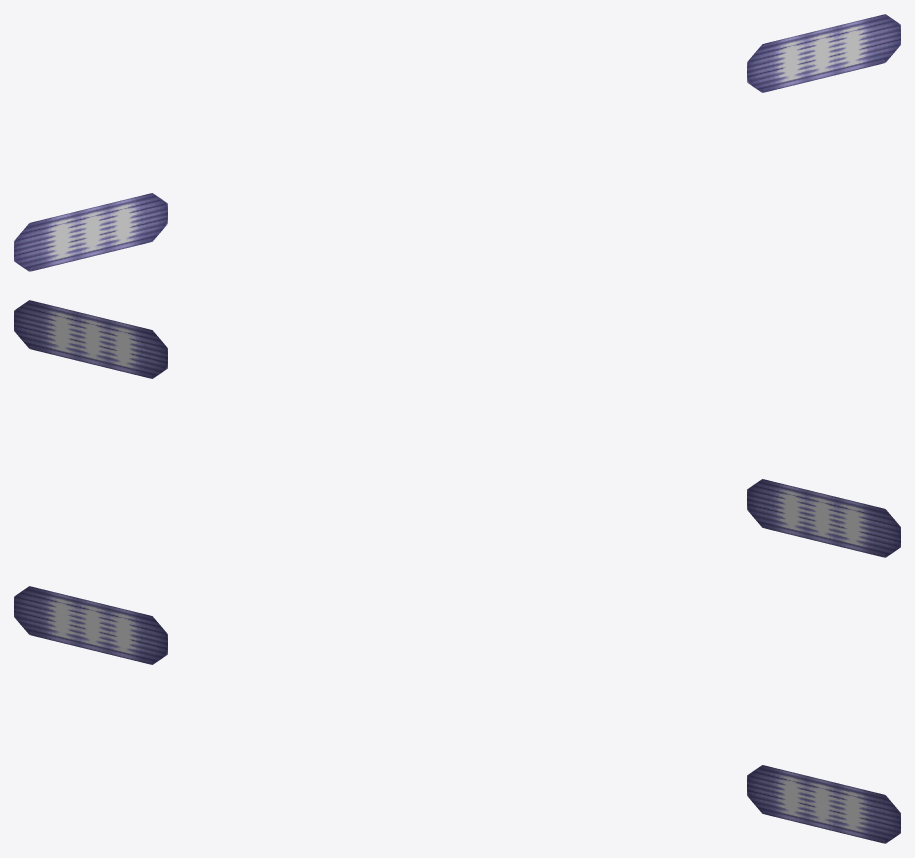
The model's file is yt1300_booster_s01_on_l1.fbx.
3 views of the same model, one above another, from view 1: azimuth 30°, elevation 25°; view 2: azimuth 150°, elevation 25°; view 3: azimuth 330°, elevation 25° (orthographic).
Visible parts, largest first — view 1: mesh_node; view 2: mesh_node; view 3: mesh_node.
Boxes of the visible parts, x1=… form: mesh_node: x1=14, y1=14, x2=900, y2=271; mesh_node: x1=14, y1=300, x2=900, y2=557; mesh_node: x1=14, y1=586, x2=900, y2=843.
Bounding box in the file's own units: 10.05 × 0.5301 × 0.
Materials: 1 (1 with a texture image).
